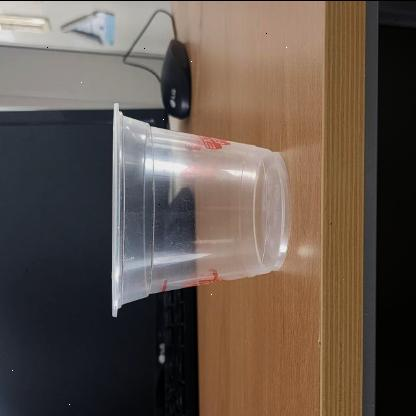Others: (110, 101, 288, 317)
